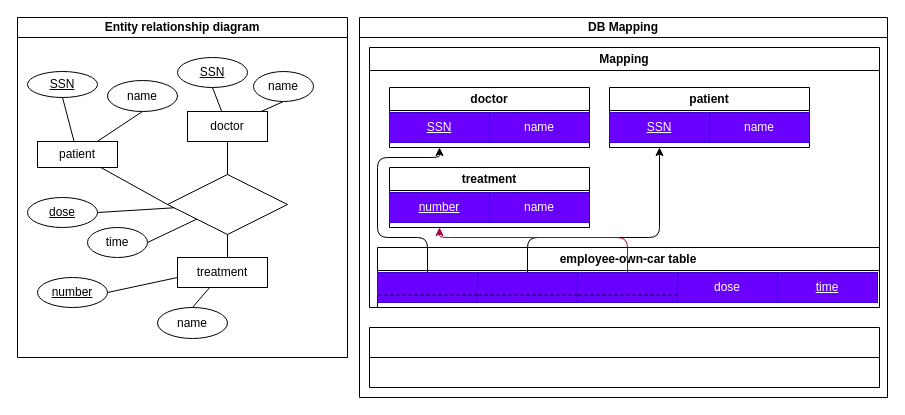
Some shapes in this 905 by 415 pixel diagram are drawn without their labels. Here are the shapes that lost their labels. From the top down, the centre of each, then its label:
(x=227, y=204): treat
(x=427, y=287): DSSN
(x=527, y=287): PSSN
(x=627, y=287): treatment-number
(x=624, y=357): constraints file
